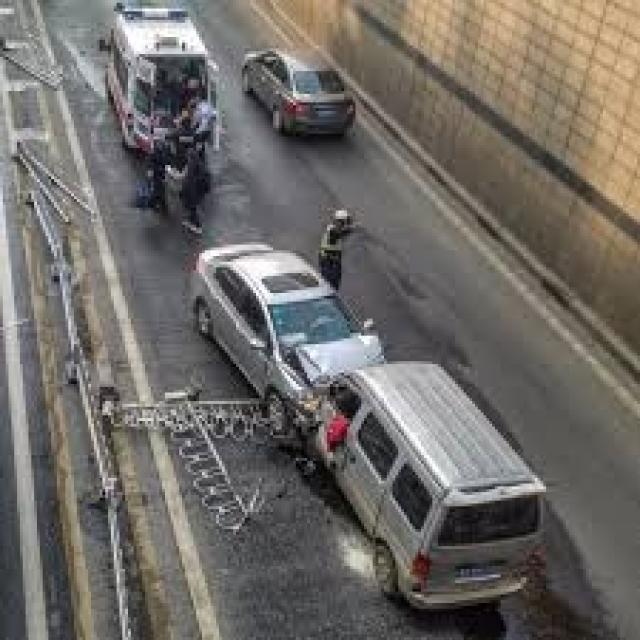accident: (229, 322, 436, 460)
